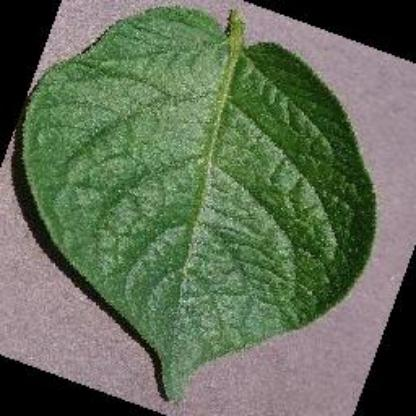Healthy-plant: (16, 2, 382, 406)
